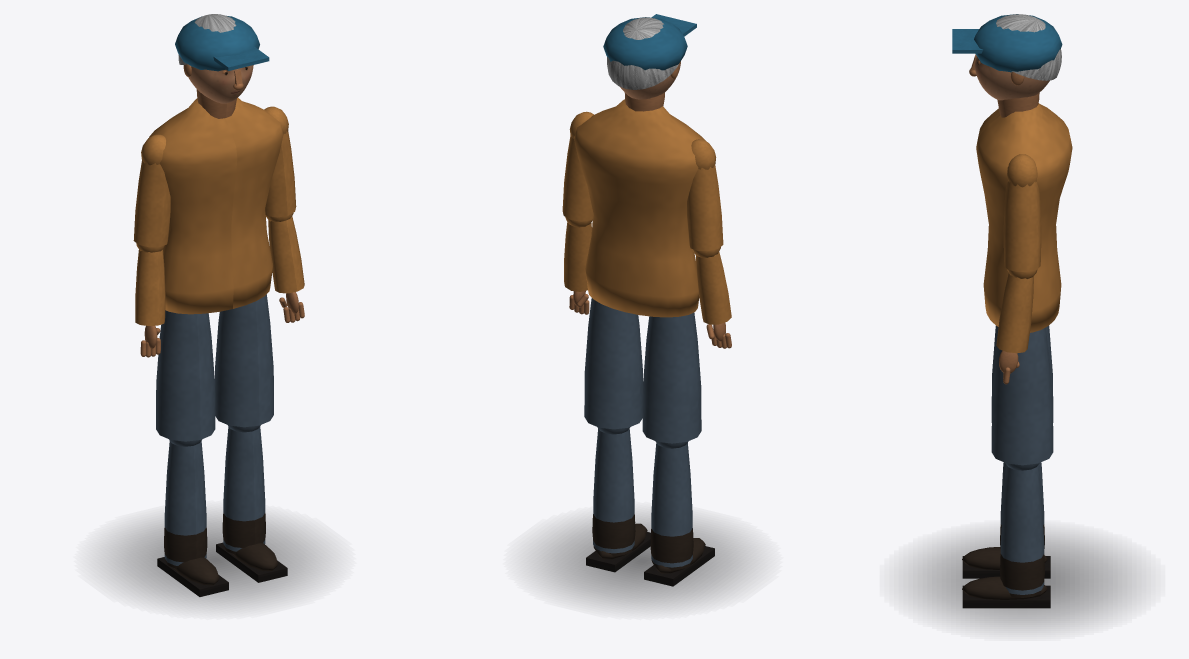
File: npc_pip.glb
The picture shows the model from 3 angles, left to right: view 1: azimuth 30°, elevation 25°; view 2: azimuth 150°, elevation 25°; view 3: azimuth 270°, elevation 25°; orthographic projection. The views are drawn at different scales.
Parts seen in each view (by area): view 1: chest, object 11, legL, legR, shinL, shinR, head, armL, foreL, foreR, armR; view 2: chest, object 11, legL, legR, shinL, shinR, head, armL, foreL, foreR, armR; view 3: object 11, chest, shinR, head, legR, armR, foreR, shinL, legL.
Boxes of the visible parts, bbox=[...] form: chest: bbox=[149, 89, 283, 314]; object 11: bbox=[102, 512, 327, 607]; legL: bbox=[156, 310, 215, 441]; legR: bbox=[214, 294, 273, 427]; shinL: bbox=[157, 439, 228, 596]; shinR: bbox=[216, 425, 287, 582]; head: bbox=[175, 14, 269, 103]; armL: bbox=[133, 134, 170, 247]; foreL: bbox=[135, 243, 165, 357]; foreR: bbox=[265, 213, 304, 322]; armR: bbox=[264, 106, 296, 217]; chest: bbox=[574, 92, 706, 317]; object 11: bbox=[531, 514, 754, 607]; legL: bbox=[642, 312, 701, 443]; legR: bbox=[584, 298, 643, 429]; shinL: bbox=[644, 441, 714, 586]; shinR: bbox=[586, 427, 650, 572]; head: bbox=[603, 14, 696, 99]; armL: bbox=[687, 139, 723, 250]; foreL: bbox=[692, 247, 731, 348]; foreR: bbox=[564, 217, 592, 314]; armR: bbox=[562, 111, 593, 221]; object 11: bbox=[908, 532, 1136, 628]; chest: bbox=[976, 93, 1072, 332]; shinR: bbox=[962, 463, 1050, 608]; head: bbox=[952, 14, 1062, 100]; legR: bbox=[991, 327, 1053, 465]; armR: bbox=[1003, 154, 1041, 271]; foreR: bbox=[996, 269, 1037, 384]; shinL: bbox=[962, 462, 1050, 578]; legL: bbox=[991, 326, 1053, 422].
Bounding box in the file's own units: 0.625 × 1.29 × 0.625.
Materials: 6 (5 with a texture image).
